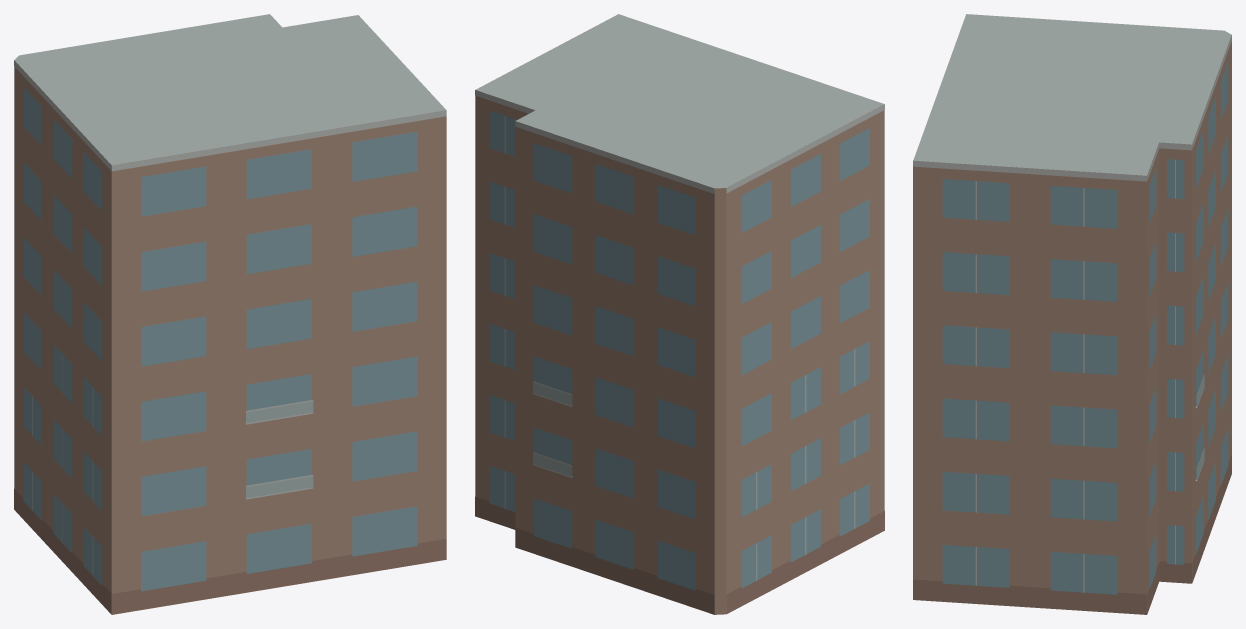
Rendered from survey-upis-32670705.glb.
3 views of the same model, side by side, from view 1: azimuth 30°, elevation 25°; view 2: azimuth 150°, elevation 25°; view 3: azimuth 270°, elevation 25° (orthographic). The views are drawn at different scales.
Parts seen in each view (by area): view 1: survey-upis-32670705.tmp; view 2: survey-upis-32670705.tmp; view 3: survey-upis-32670705.tmp.
Part boxes in pixels (left/top/right/bottom): survey-upis-32670705.tmp: left=14, top=14, right=446, bottom=614; survey-upis-32670705.tmp: left=475, top=14, right=884, bottom=614; survey-upis-32670705.tmp: left=913, top=14, right=1231, bottom=614.
Size of the model in its own units: 14.38 by 18.2 by 11.98.
